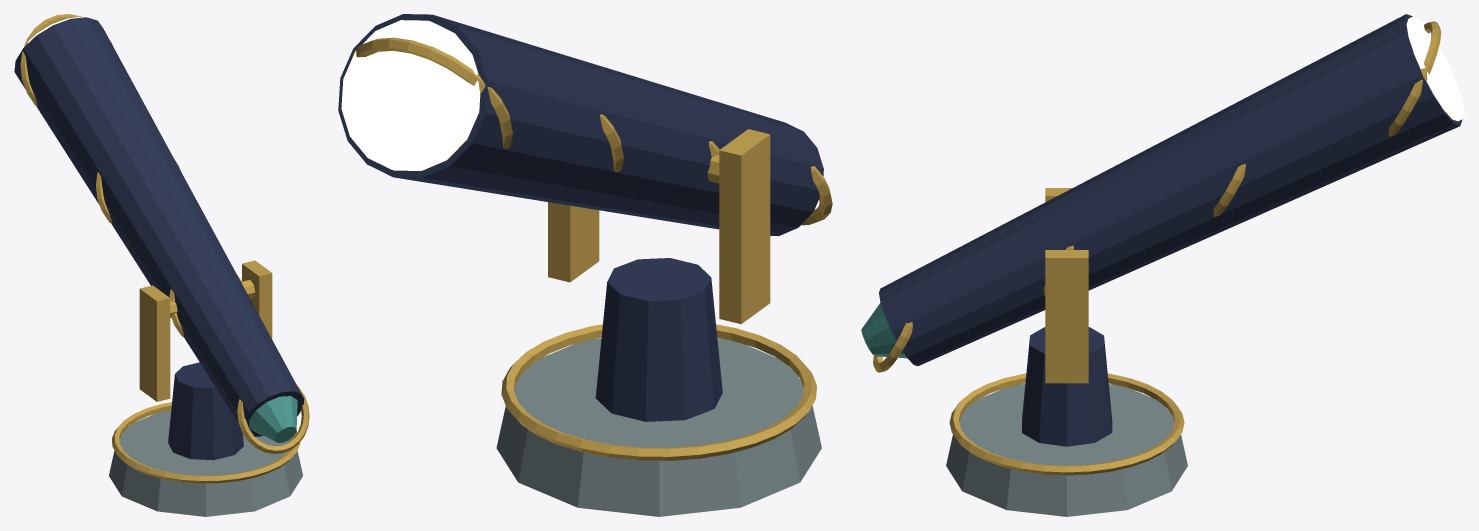
File: telescope.glb
3 renders of one model, left to right at view 1: azimuth 30°, elevation 25°; view 2: azimuth 150°, elevation 25°; view 3: azimuth 270°, elevation 25°, orthographic. The views are drawn at different scales.
Visible parts, largest first — view 1: TelescopeTube, TelescopeMount; view 2: TelescopeMount, TelescopeTube; view 3: TelescopeTube, TelescopeMount.
Boxes of the visible parts, x1,y1,x2,y2 form: TelescopeTube: [14, 14, 309, 453]; TelescopeMount: [109, 260, 302, 516]; TelescopeMount: [496, 129, 821, 516]; TelescopeTube: [338, 14, 832, 236]; TelescopeTube: [861, 14, 1464, 372]; TelescopeMount: [946, 188, 1187, 516].
Size of the model in its own units: 2.8 by 5.69 by 6.98.
